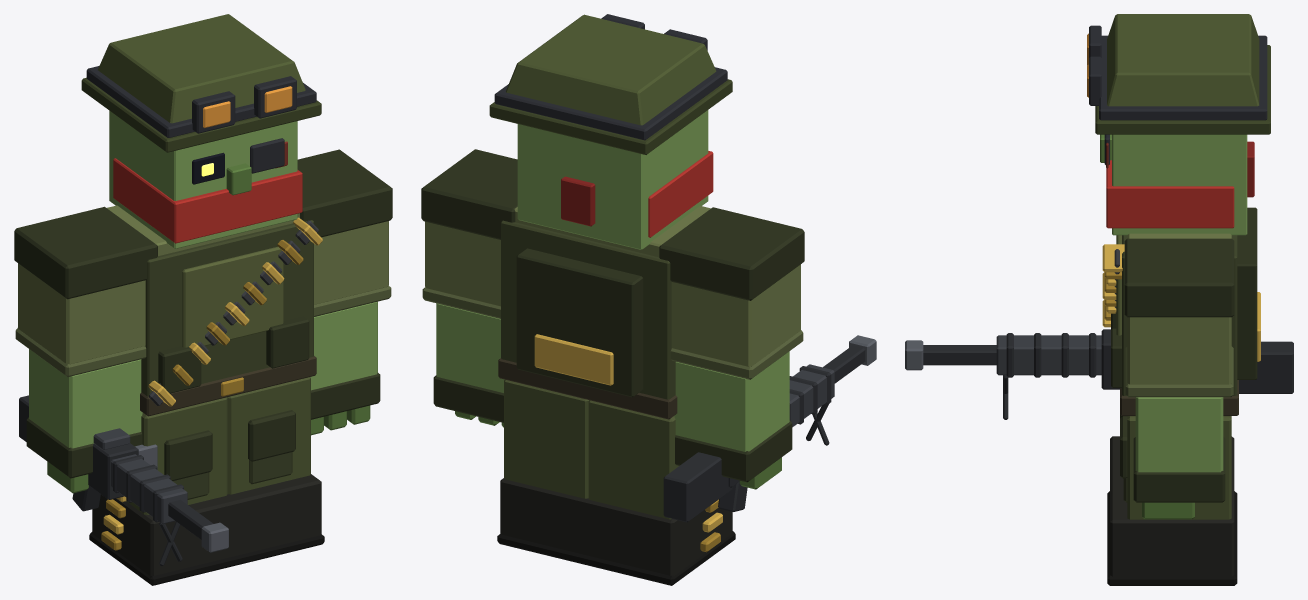
Rendered from myw_zombiemachinegunner.glb.
3 renders of one model, left to right at view 1: azimuth 30°, elevation 25°; view 2: azimuth 150°, elevation 25°; view 3: azimuth 270°, elevation 25°, orthographic. The views are drawn at different scales.
Parts seen in each view (by area): view 1: RightArm, Torso, Hat, LeftArm, Head, LeftLeg, RightLeg, MachineGun; view 2: RightArm, Torso, Hat, LeftArm, Head, RightLeg, LeftLeg, MachineGun; view 3: LeftArm, Hat, Head, LeftLeg, MachineGun, Torso, RightLeg.
Part boxes in pixels (left/top/right/bottom): RightArm: left=14, top=206, right=157, bottom=493; Torso: left=107, top=205, right=322, bottom=416; Hat: left=81, top=14, right=321, bottom=173; LeftArm: left=297, top=149, right=392, bottom=435; Head: left=109, top=111, right=302, bottom=248; LeftLeg: left=227, top=377, right=324, bottom=565; RightLeg: left=89, top=397, right=238, bottom=585; MachineGun: left=19, top=395, right=228, bottom=565; RightArm: left=659, top=207, right=804, bottom=489; Torso: left=498, top=206, right=710, bottom=419; Hat: left=489, top=14, right=732, bottom=154; LeftArm: left=421, top=149, right=517, bottom=427; Head: left=517, top=110, right=713, bottom=249; RightLeg: left=583, top=400, right=735, bottom=585; LeftLeg: left=497, top=379, right=588, bottom=564; MachineGun: left=663, top=335, right=876, bottom=552; LeftArm: left=1124, top=238, right=1234, bottom=519; Hat: left=1087, top=14, right=1270, bottom=164; Head: left=1100, top=134, right=1254, bottom=235; LeftLeg: left=1107, top=416, right=1237, bottom=585; MachineGun: left=905, top=329, right=1293, bottom=419; Torso: left=1102, top=207, right=1260, bottom=416; RightLeg: left=1107, top=414, right=1237, bottom=534.
Bounding box in the file's own units: 4.24 × 6.03 × 4.25.
